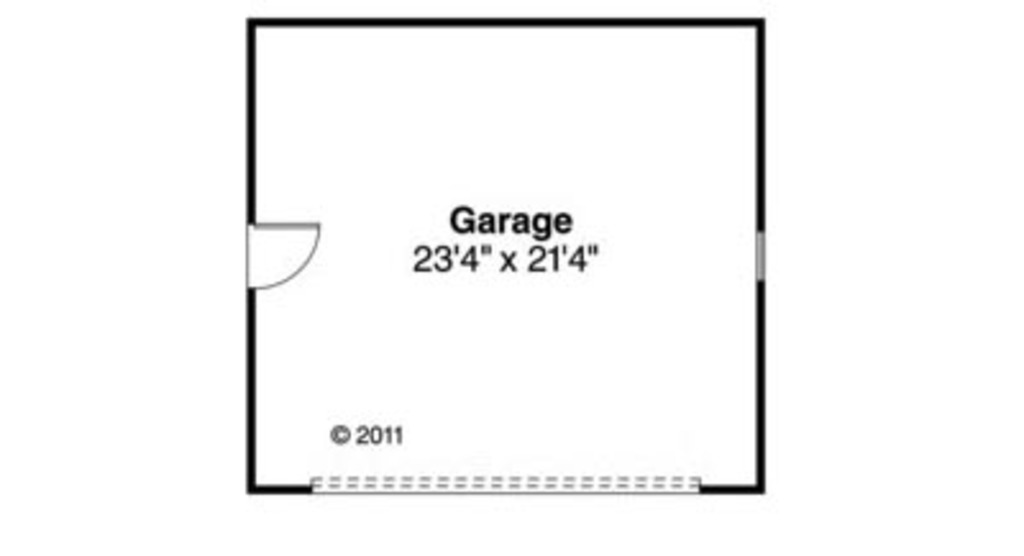door: (239, 220, 318, 289)
window: (752, 224, 769, 293)
